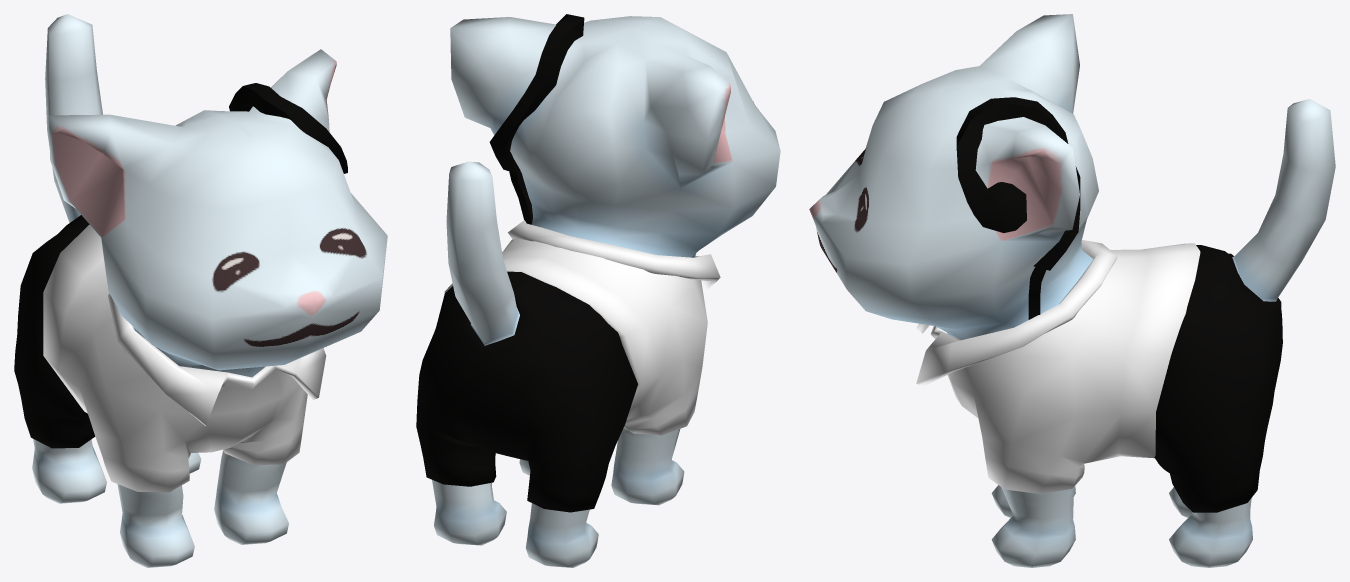
The model's file is Security Cat05.fbx.
3 renders of one model, left to right at view 1: azimuth 30°, elevation 25°; view 2: azimuth 150°, elevation 25°; view 3: azimuth 270°, elevation 25°, orthographic. The views are drawn at different scales.
Parts seen in each view (by area): view 1: Cat_Base004, Security_Cat_Shirt, Security_Cat_Shorts, Security_Cat_Earpiece; view 2: Cat_Base004, Security_Cat_Shorts, Security_Cat_Shirt, Security_Cat_Earpiece; view 3: Cat_Base004, Security_Cat_Shirt, Security_Cat_Shorts, Security_Cat_Earpiece.
Boxes of the visible parts, left/top/right/bottom form: Cat_Base004: left=32, top=14, right=387, bottom=567; Security_Cat_Shirt: left=43, top=224, right=326, bottom=492; Security_Cat_Shorts: left=14, top=215, right=95, bottom=448; Security_Cat_Earpiece: left=229, top=83, right=347, bottom=173; Cat_Base004: left=432, top=16, right=780, bottom=567; Security_Cat_Shorts: left=416, top=271, right=637, bottom=512; Security_Cat_Shirt: left=444, top=220, right=720, bottom=435; Security_Cat_Earpiece: left=489, top=14, right=584, bottom=224; Cat_Base004: left=809, top=14, right=1335, bottom=567; Security_Cat_Shirt: left=916, top=240, right=1200, bottom=493; Security_Cat_Shorts: left=1154, top=245, right=1282, bottom=512; Security_Cat_Earpiece: left=956, top=97, right=1080, bottom=319.
Size of the model in its own units: 1.75 by 2.83 by 2.71.
3 materials, 1 textured.
